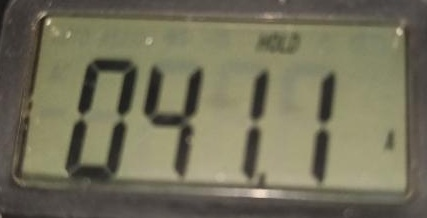ClampMeter_Display: (0, 0, 427, 218)
